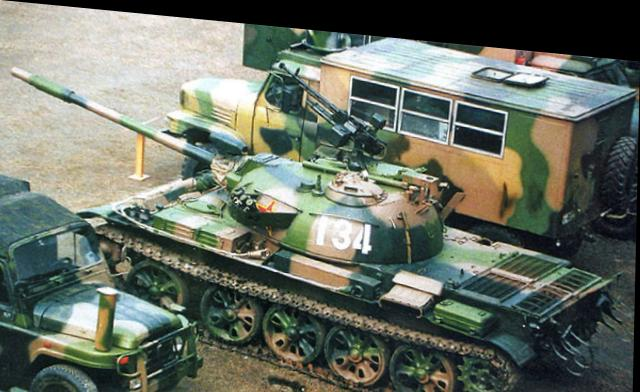tank: (120, 141, 612, 348)
